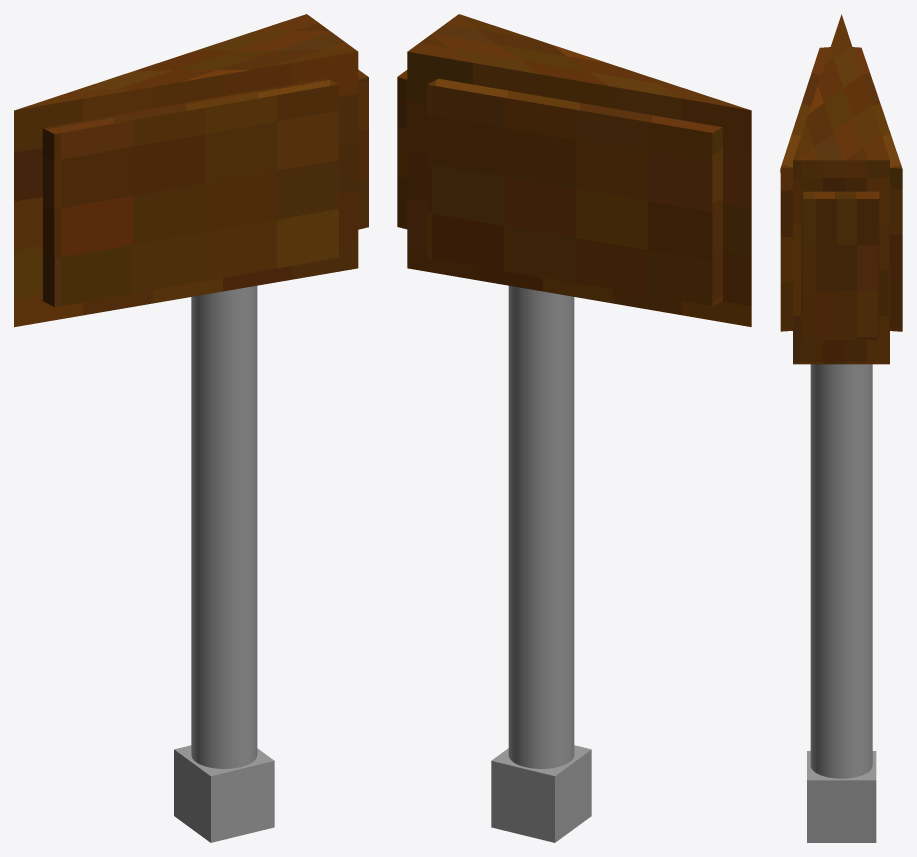
The model's file is itemwoodsuperaxe.obj.
3 views of the same model, side by side, from view 1: azimuth 30°, elevation 25°; view 2: azimuth 150°, elevation 25°; view 3: azimuth 270°, elevation 25° (orthographic). The views are drawn at different scales.
Parts seen in each view (by area): view 1: HammerHead_Cube.002, HammerHandle_Cylinder.003, BottomHammer_Cube.003; view 2: HammerHead_Cube.002, HammerHandle_Cylinder.003, BottomHammer_Cube.003; view 3: HammerHead_Cube.002, HammerHandle_Cylinder.003, BottomHammer_Cube.003.
Part boxes in pixels (x1,y1,x2,y2): HammerHead_Cube.002: (14, 14, 368, 327); HammerHandle_Cylinder.003: (191, 285, 257, 768); BottomHammer_Cube.003: (174, 745, 274, 842); HammerHead_Cube.002: (397, 14, 751, 326); HammerHandle_Cylinder.003: (508, 285, 574, 768); BottomHammer_Cube.003: (491, 745, 591, 842); HammerHead_Cube.002: (780, 14, 902, 364); HammerHandle_Cylinder.003: (810, 364, 872, 778); BottomHammer_Cube.003: (807, 751, 876, 842).
Bounding box in the file's own units: 0.6562 × 1.43 × 0.2202.
